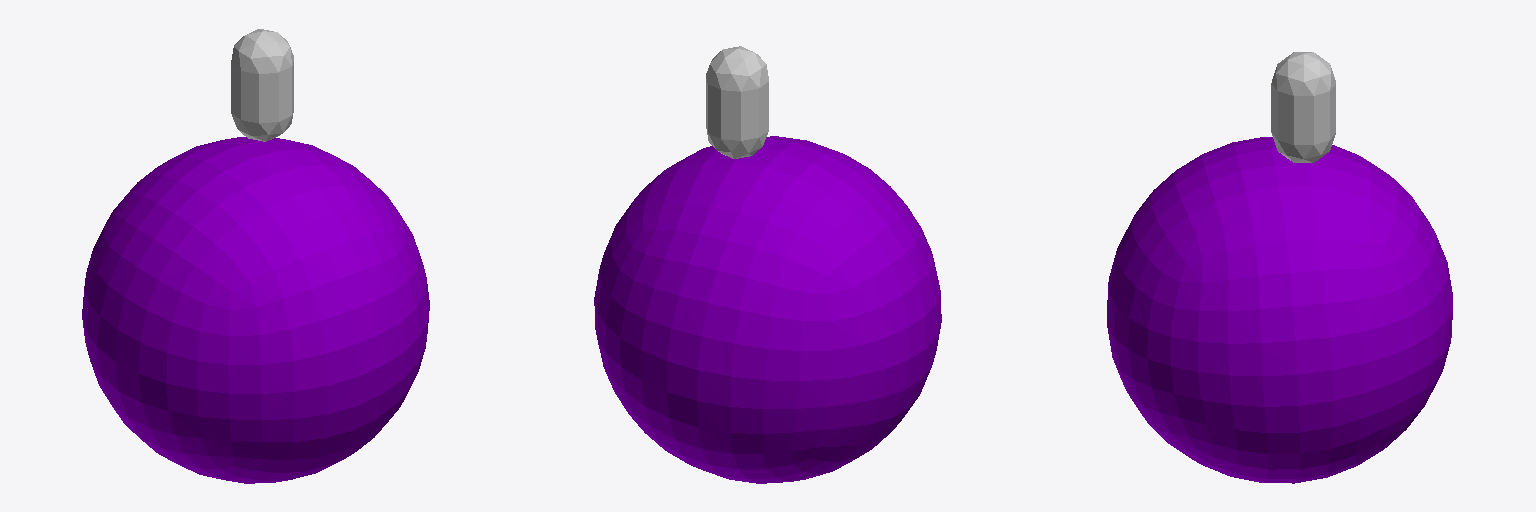
The model's file is area.obj.
The picture shows the model from 3 angles: view 1: azimuth 30°, elevation 25°; view 2: azimuth 150°, elevation 25°; view 3: azimuth 270°, elevation 25°; orthographic projection.
Parts seen in each view (by area): view 1: WalkMesh, Player; view 2: WalkMesh, Player; view 3: WalkMesh, Player.
Part boxes in pixels (x1,y1,x2,y2): WalkMesh: (82,137,429,483); Player: (231,29,293,141); WalkMesh: (594,136,941,483); Player: (706,46,768,158); WalkMesh: (1107,137,1452,483); Player: (1271,52,1335,162).
Bounding box in the file's own units: 6.39 × 8.61 × 6.39.